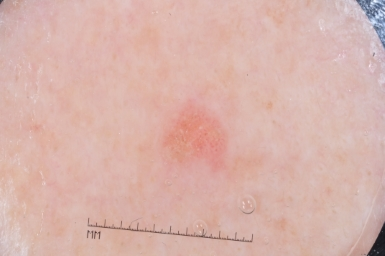seborrheic keratosis: (141, 84, 245, 175)
